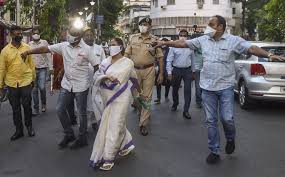mask: (204, 14, 223, 38), (63, 24, 81, 43), (106, 37, 123, 57), (9, 23, 24, 44), (137, 22, 150, 37), (82, 29, 93, 44), (178, 26, 189, 40), (30, 26, 39, 41)
